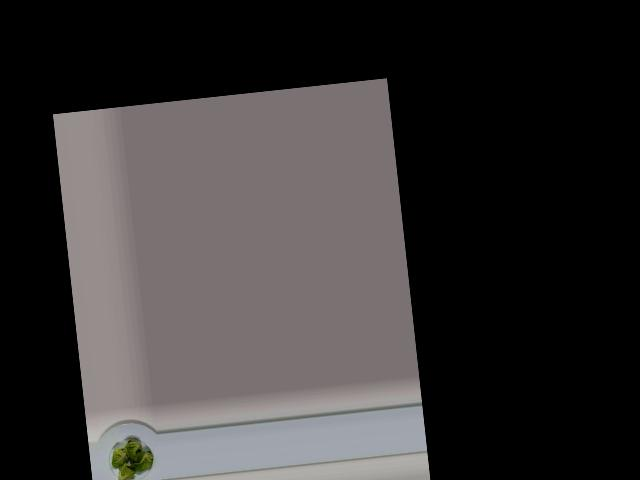lettuce: (110, 435, 159, 480)
